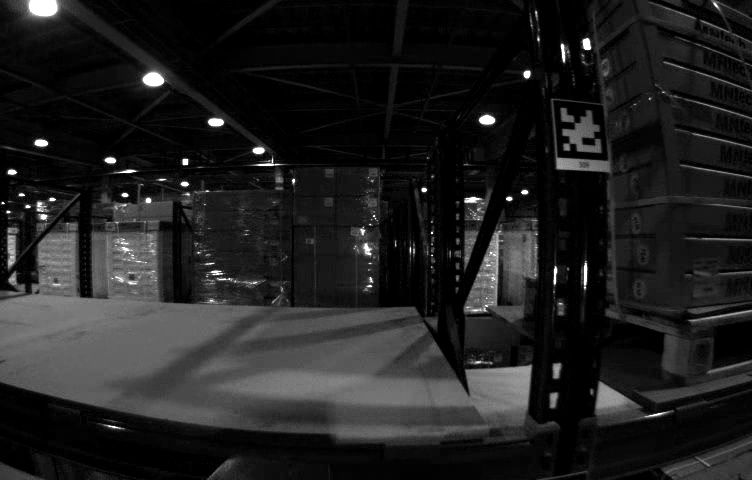True Barcode: (694, 259, 720, 297)
